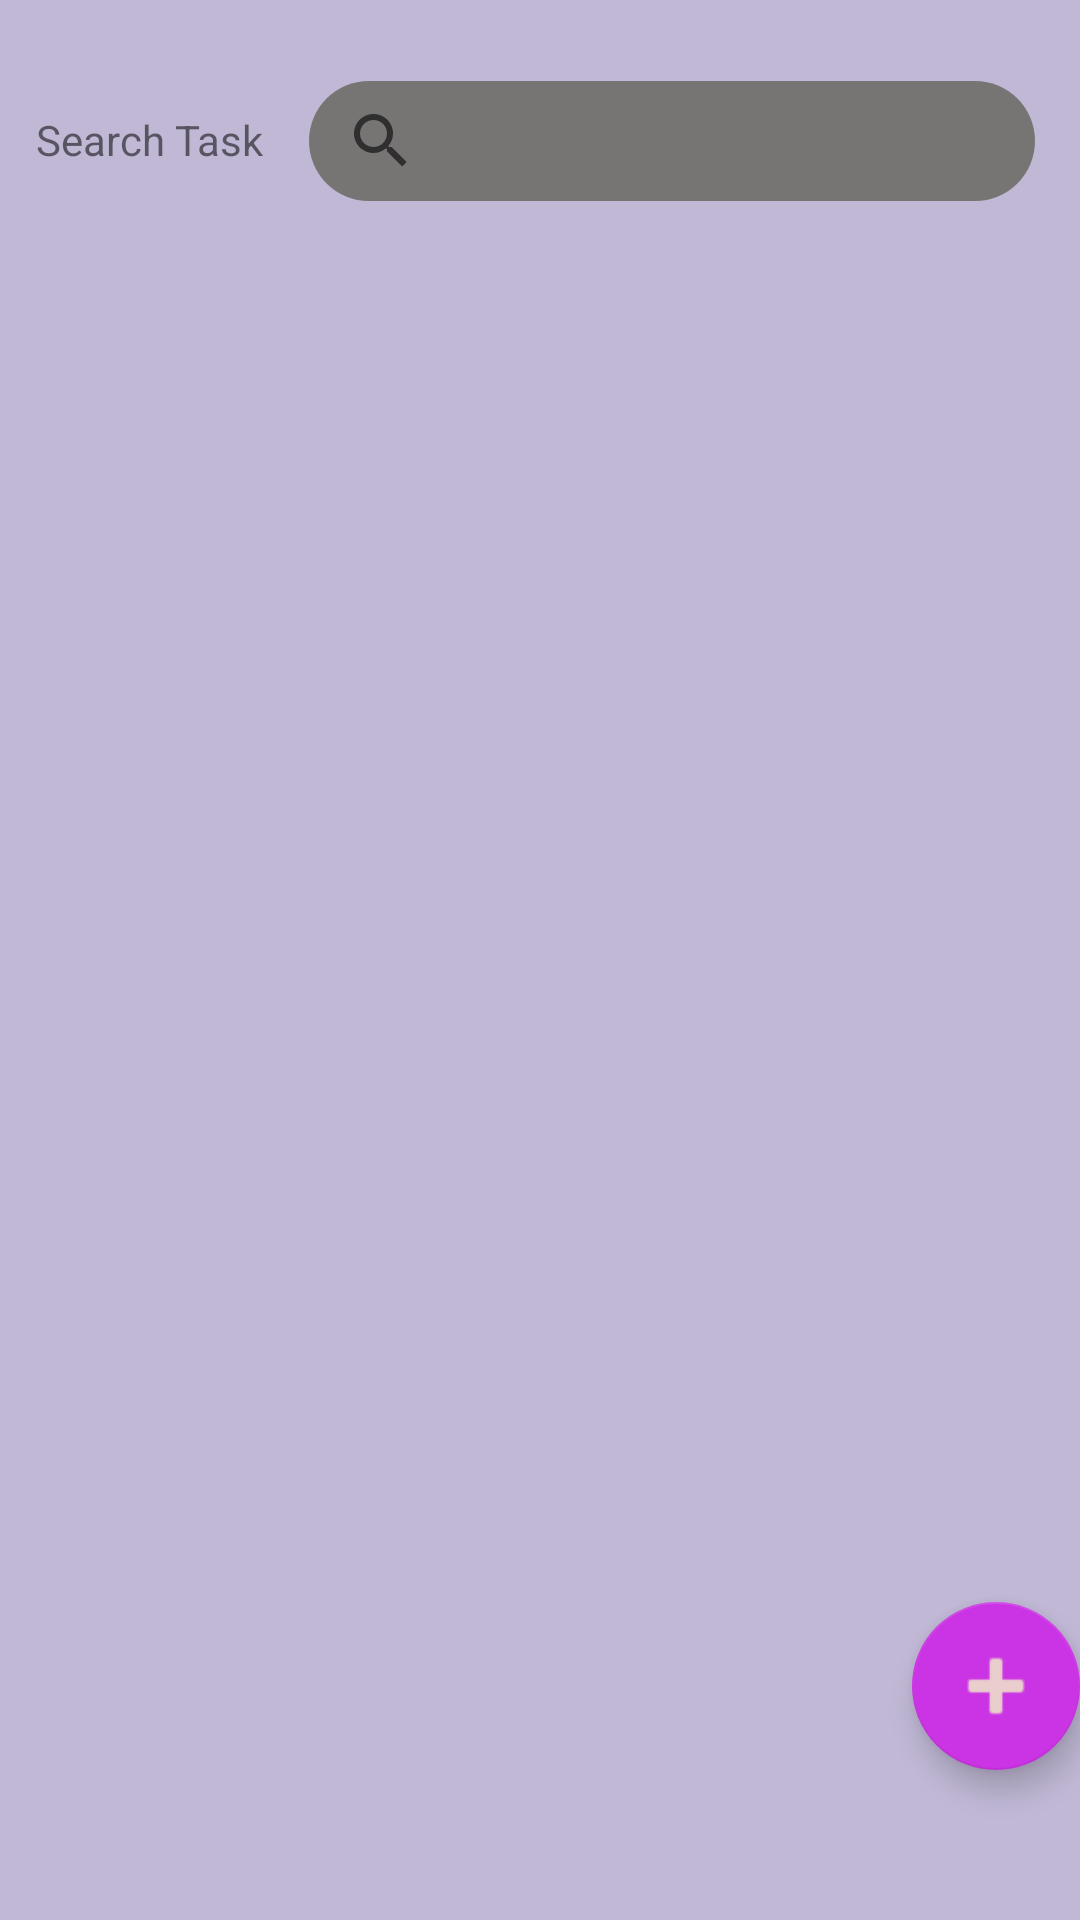

Where icons sit on this 1080*1920 app screen, as BBox(x1, y1, x2, y2):
add: BBox(912, 1602, 1080, 1770)
